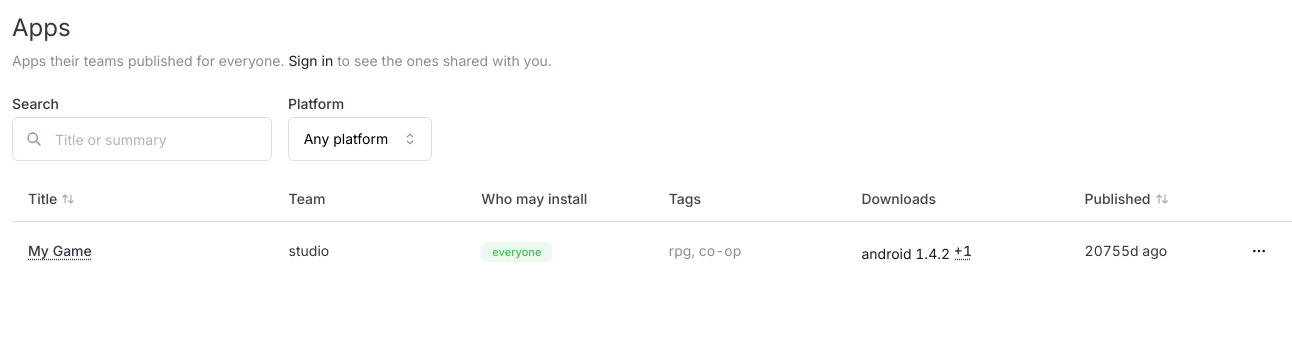
Test: ListingsPage › lists what an anonymous visitor may read, with one download per platform
Expected: the heading "Apps" is shown, [12,12,71,44]
Expected: the column heading "Title" is shown, [12,178,273,222]
Click the button "My Game" at coordinates (108, 251), box [28,238,188,264]
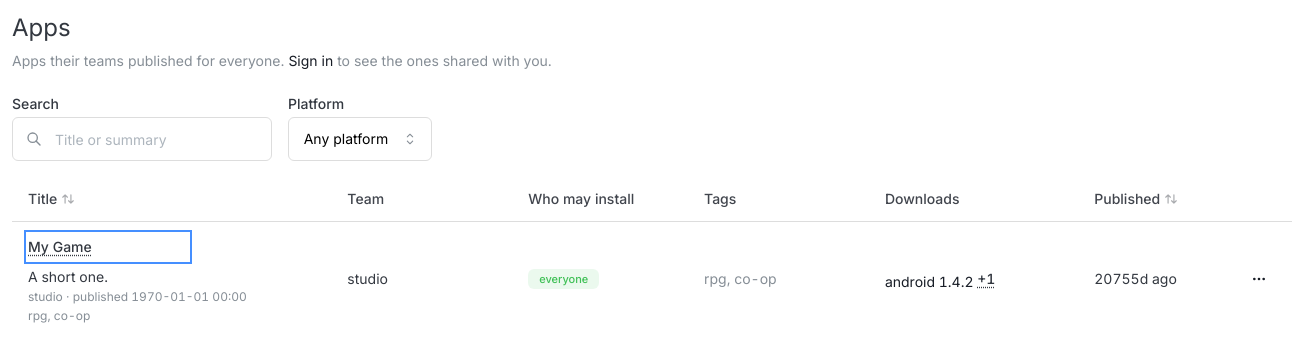
Expected: the text "studio" is shown, [347,270,388,287]
Expected: the text "A short one." is shown, [28,268,108,285]
Expected: the text "rpg, co-op" below "· published" is shown, [28,308,90,323]
Click the button named "+1 more downloads of My Game" at coordinates (997, 279), box [977,266,1017,292]
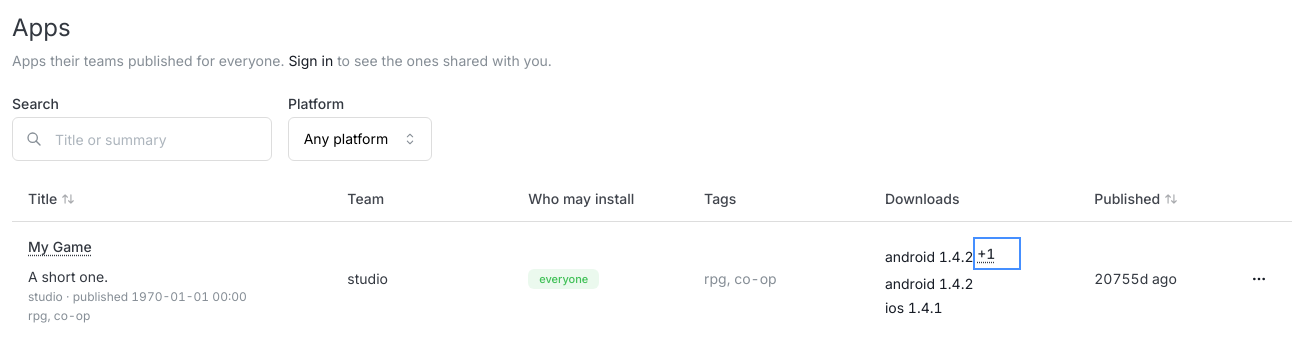
Click the button named "Actions for My Game" at coordinates (1259, 279), box [1242,262,1276,296]
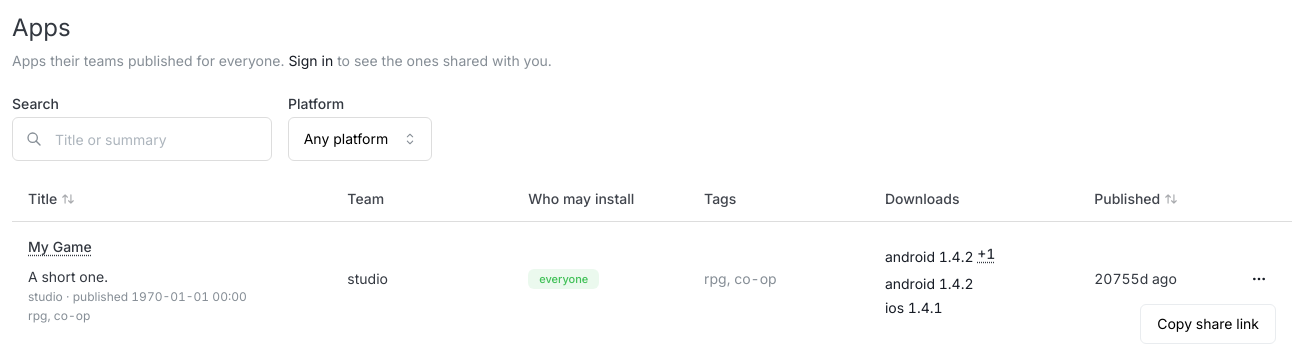
Expected: the menu items read "Copy share link", in this order, [1145,309,1271,339]
